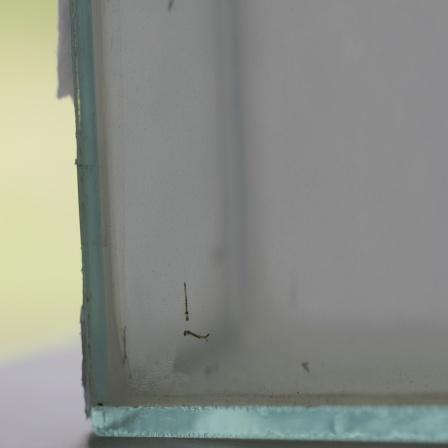Jentik-Nyamuk: (179, 326, 216, 344), (179, 279, 194, 323)
